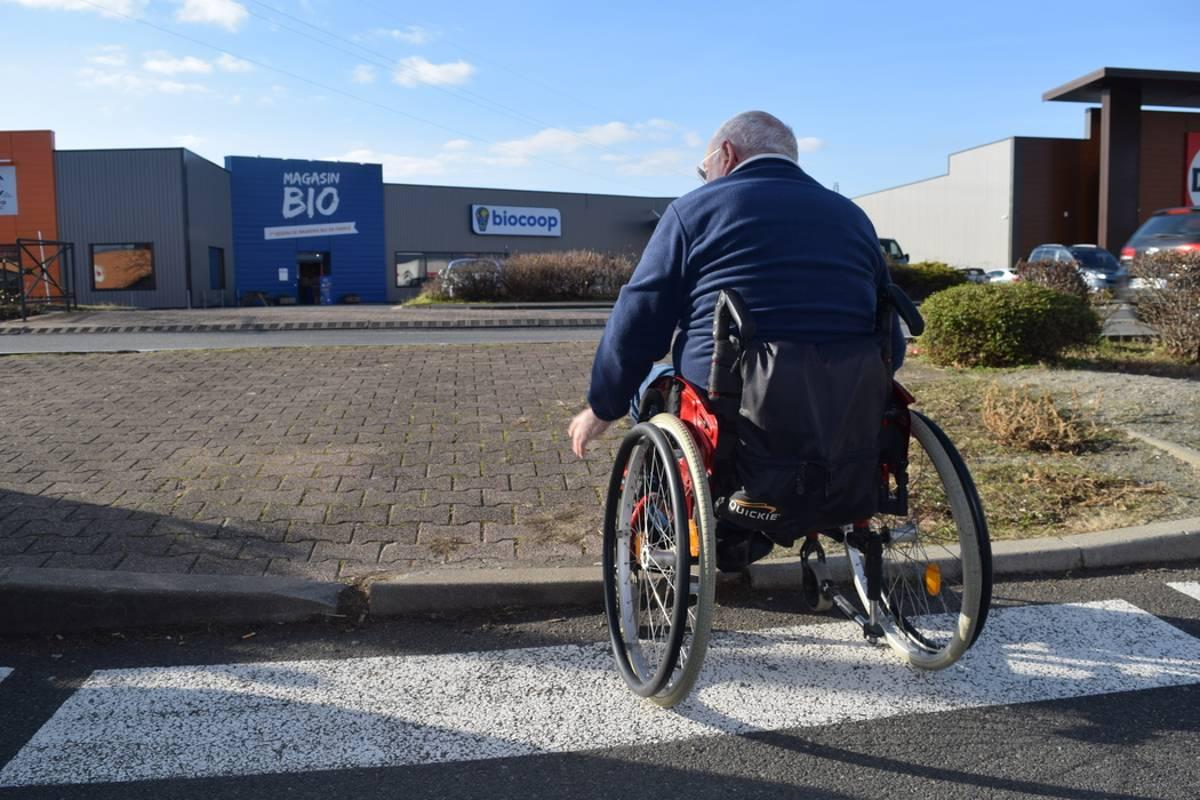wheelchair: (567, 110, 994, 709)
